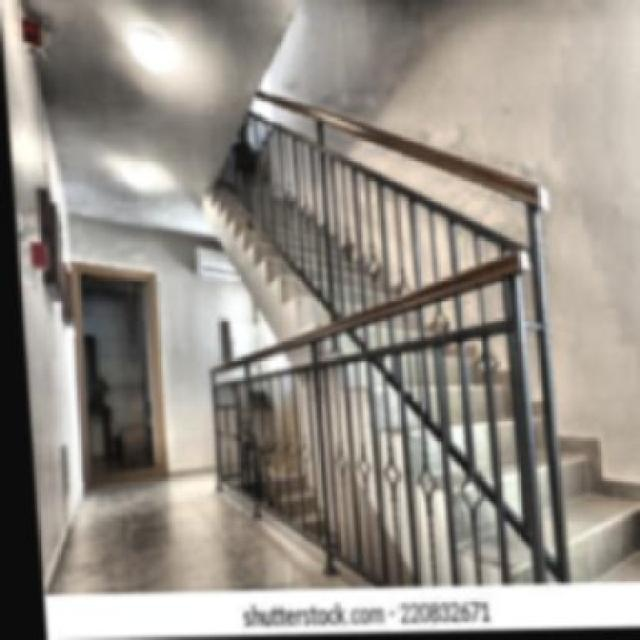stair: (201, 81, 638, 575)
